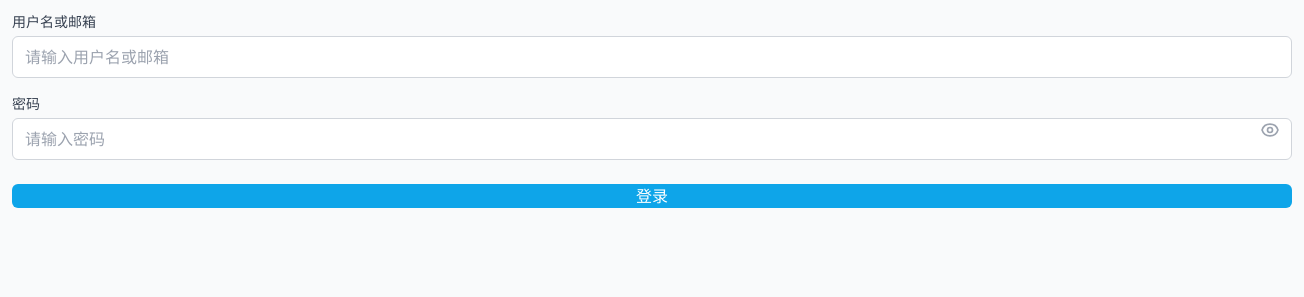
Test: LoginForm - 提交失败场景 › 应该处理登录失败（用户名或密码错误）
The width and height of the screenshot is (1304, 297).
Step 1. Type "test@example.com" into the field labelled "用户名或邮箱" → (652, 57), box [12, 36, 1292, 78]
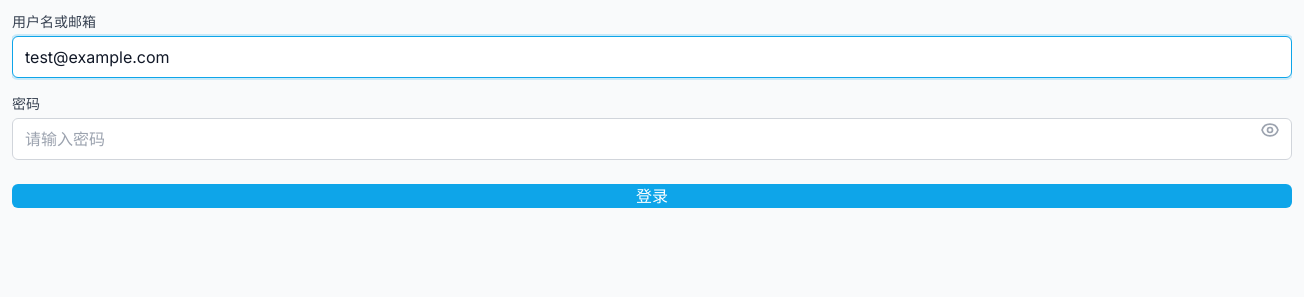
Step 2. Type "wrongpassword" into the password field labelled "密码" → (652, 139), box [12, 118, 1292, 160]
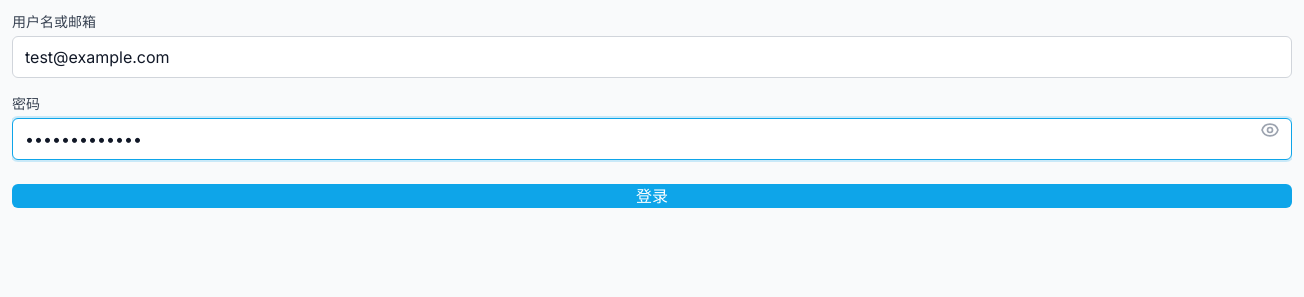
Step 3. Click the button "登录" → (652, 196), box [12, 184, 1292, 208]
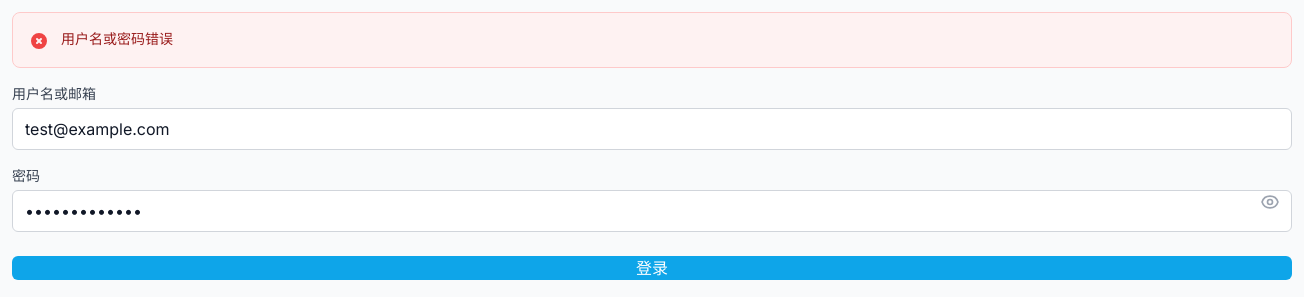
Expected: the text "用户名或密码错误" is shown, [61, 30, 173, 47]
